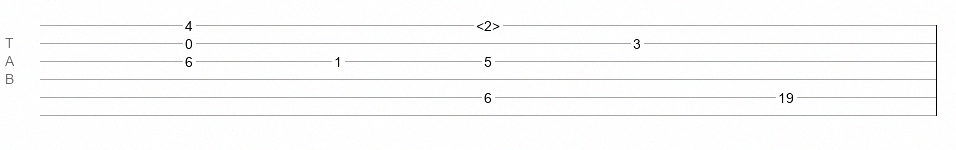0: (185, 36, 193, 46)
1: (334, 54, 342, 64)
19: (778, 90, 794, 100)
3: (633, 36, 641, 46)
4: (185, 18, 193, 28)
5: (484, 54, 492, 64)
6: (185, 54, 193, 64), (484, 90, 492, 100)
harmonic: (476, 18, 500, 28)
